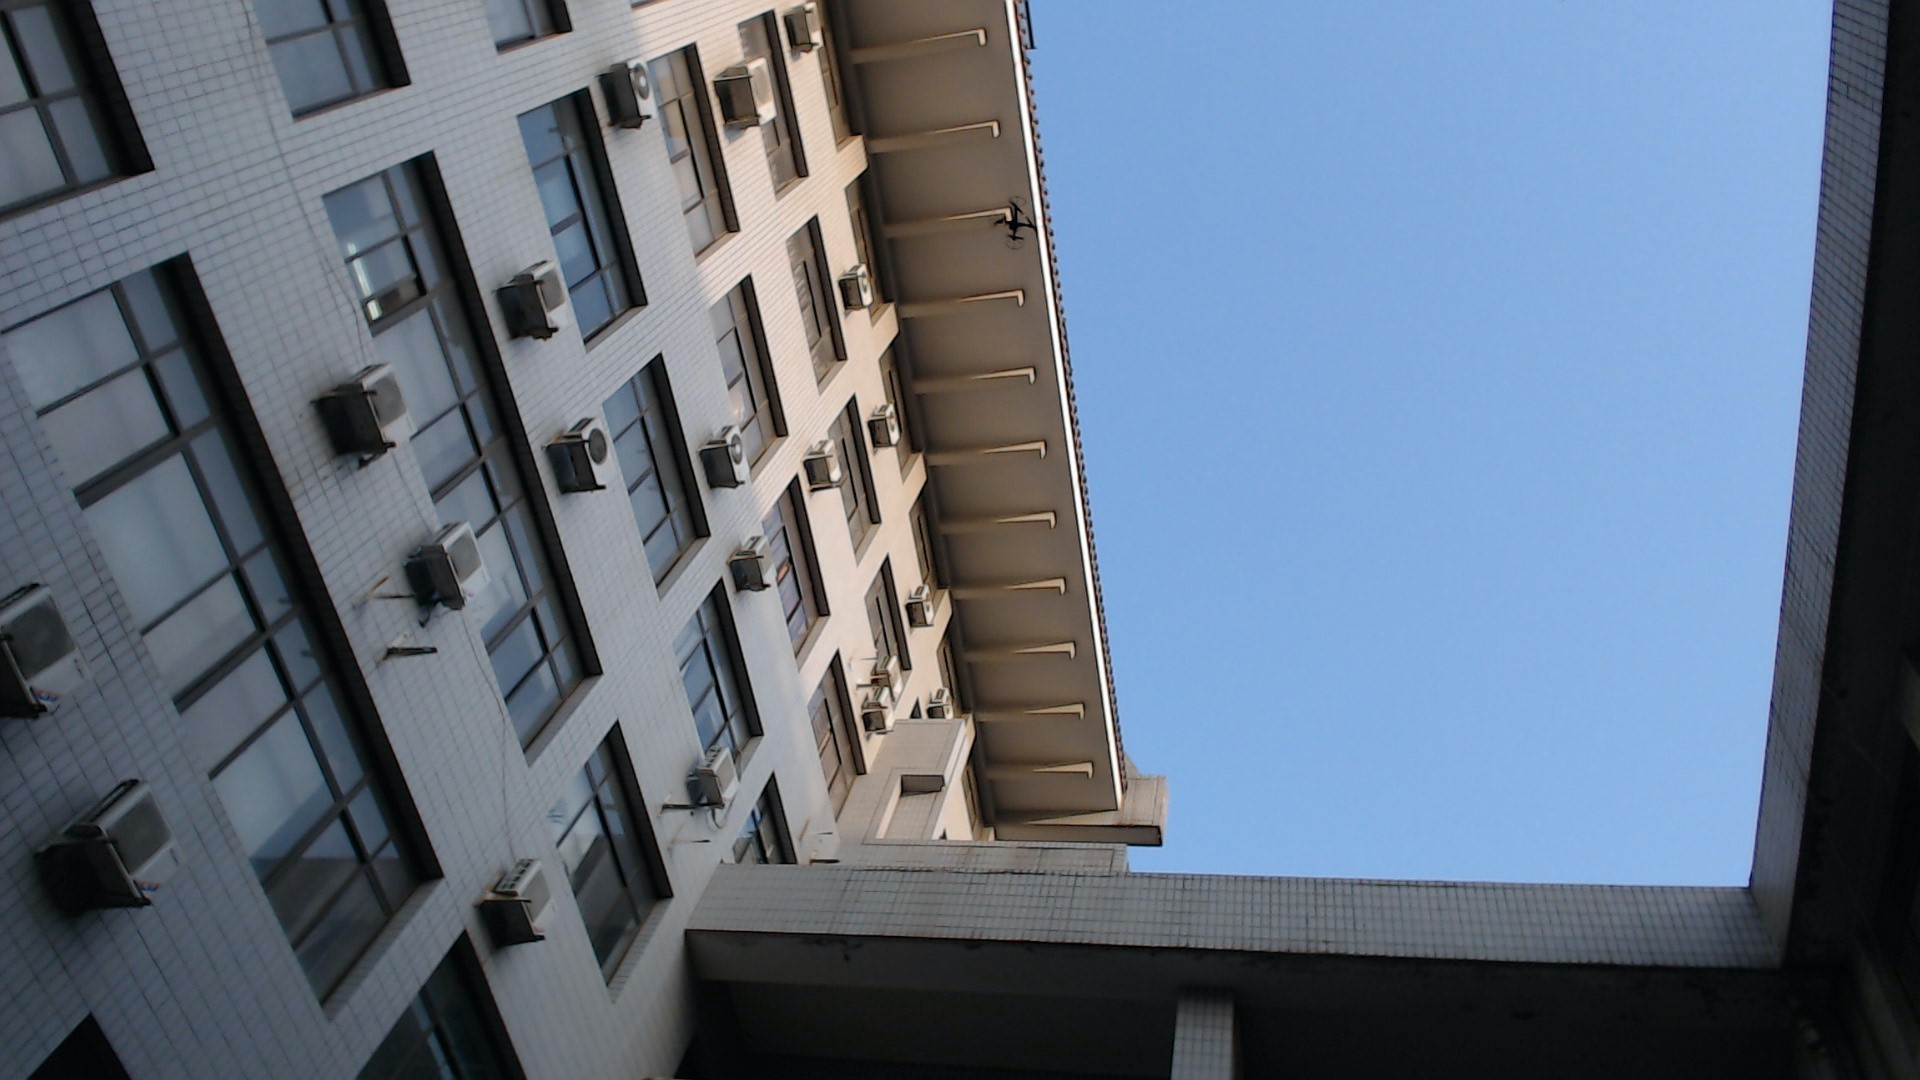drone: (975, 187, 1062, 258)
